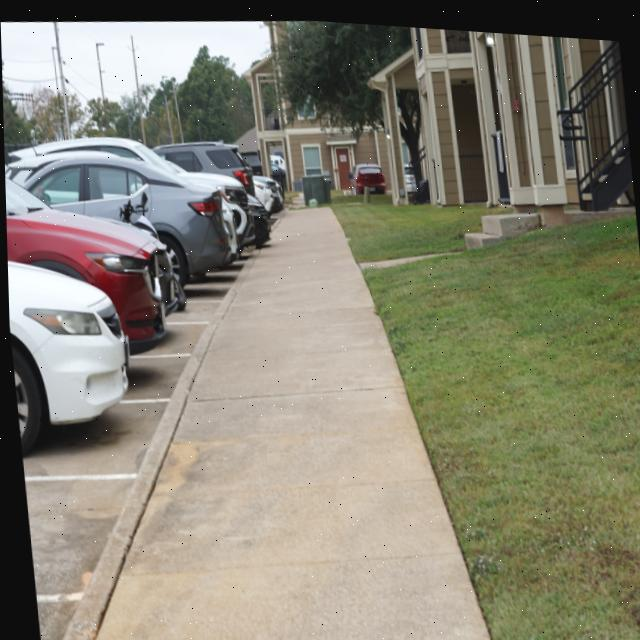Automobile: (4, 136, 281, 454), (352, 159, 384, 186)
Road: (19, 257, 243, 640)
Sidewalk: (57, 202, 488, 640)
